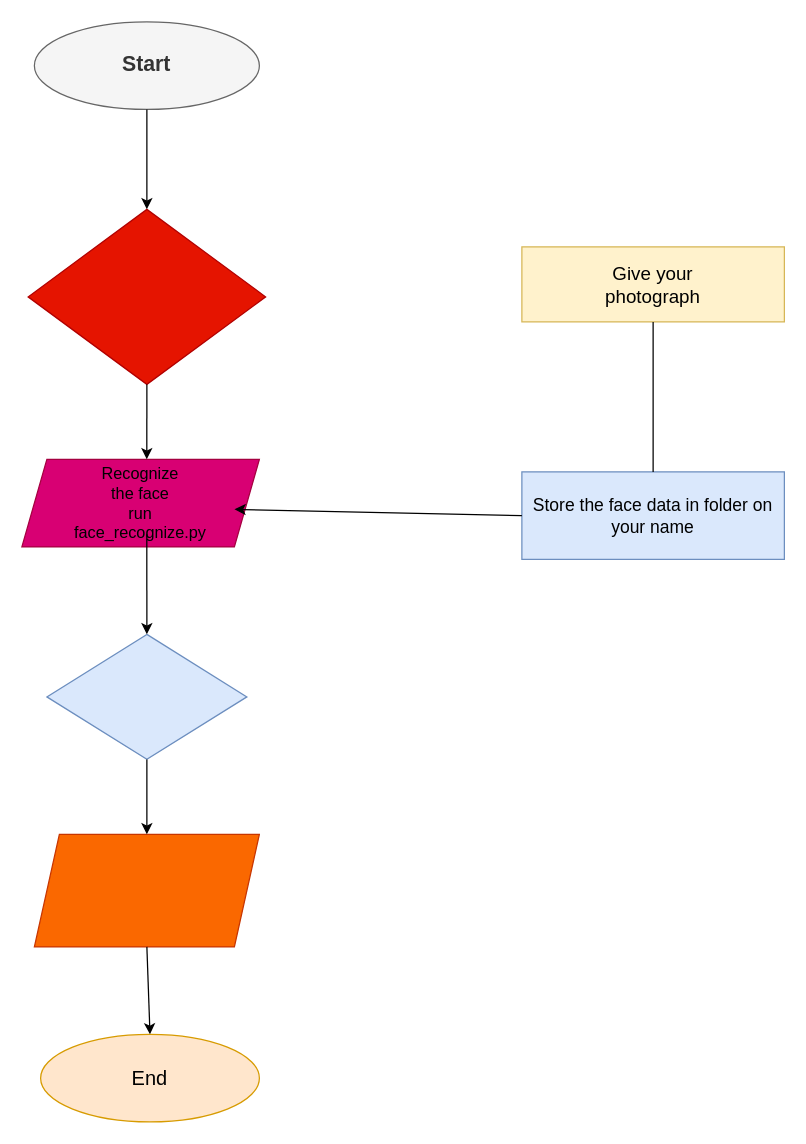
The diagram is 806 pixels wide and 1144 high, and some of its shapes have lost their labels. The centre of each missing label's shape, as x and y in pixels:
Face Recognized: pixel 146 696
New User? run create_datase.py: pixel 146 296
Stored in csv file with registration Number & Date Time of entry: pixel 146 890
